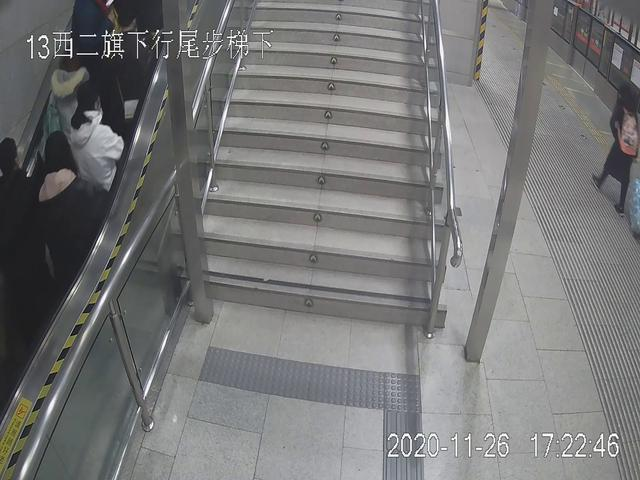person: (63, 81, 120, 205), (590, 79, 640, 216)
